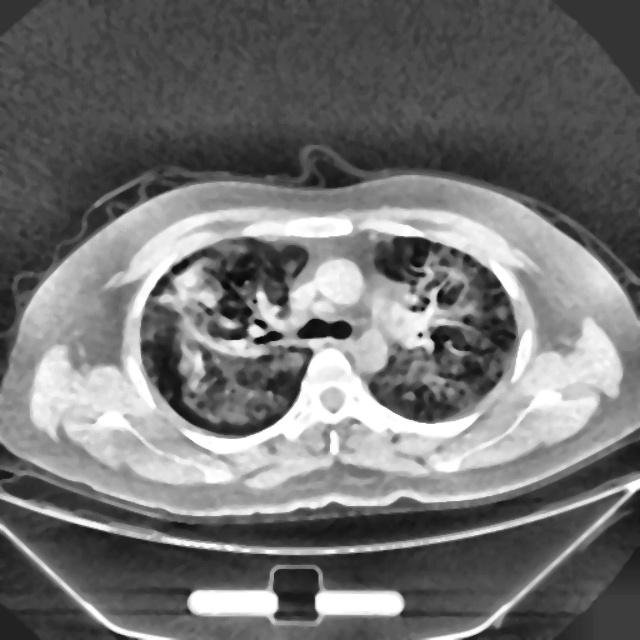covid: (2, 152, 638, 525)
